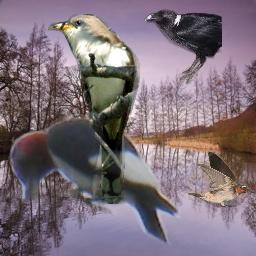Crow: (144, 9, 222, 85)
Cuckoo: (48, 14, 140, 204)
Swallow: (187, 151, 249, 208)
Woodpecker: (4, 113, 185, 248)
